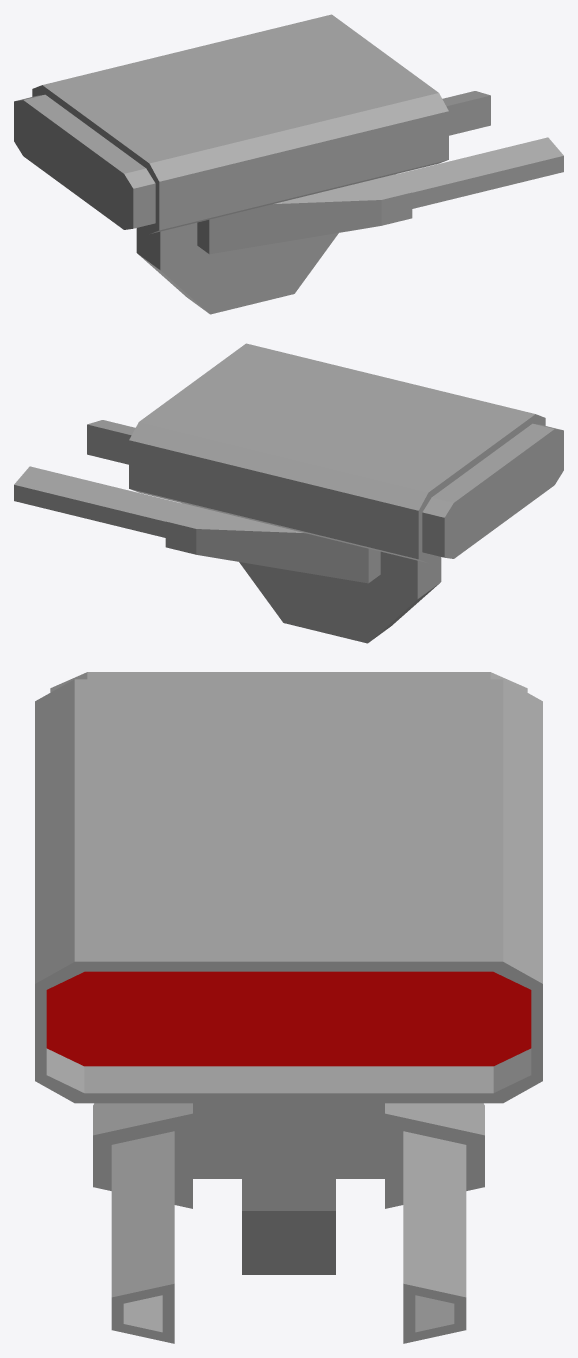
The model's file is SM_FrigateTurretWeapon.fbx.
3 views of the same model, one above another, from view 1: azimuth 30°, elevation 25°; view 2: azimuth 150°, elevation 25°; view 3: azimuth 270°, elevation 25° (orthographic). The views are drawn at different scales.
Visible parts, largest first — view 1: polySurface28; view 2: polySurface28; view 3: polySurface28.
Part boxes in pixels (box(x1,y1,x2,y2)): polySurface28: box(14, 14, 563, 314); polySurface28: box(14, 343, 563, 643); polySurface28: box(35, 672, 542, 1343).
Bounding box in the file's own units: 2534 × 1122 × 1249.
